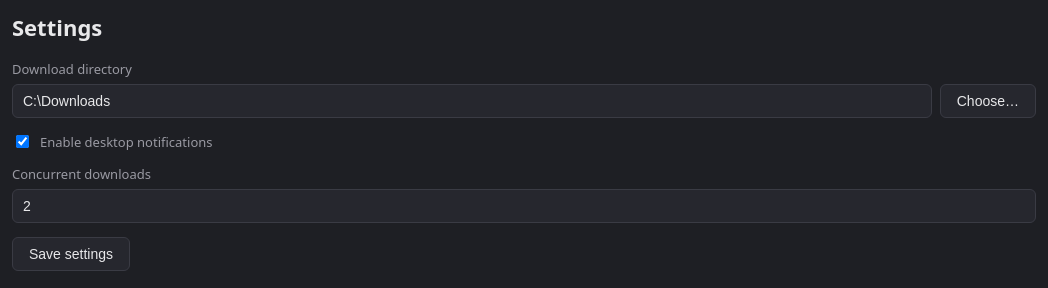
Test: SettingsPage › falls back to the default concurrency limit when the field is cleared
Clear the number field labelled "Concurrent downloads" at (524, 206), box [12, 189, 1036, 223]
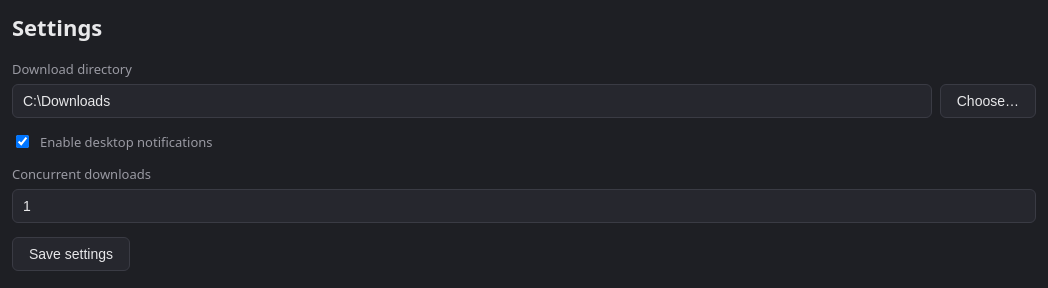
Expected: the number field labelled "Concurrent downloads" holds "1", [12, 189, 1036, 223]
